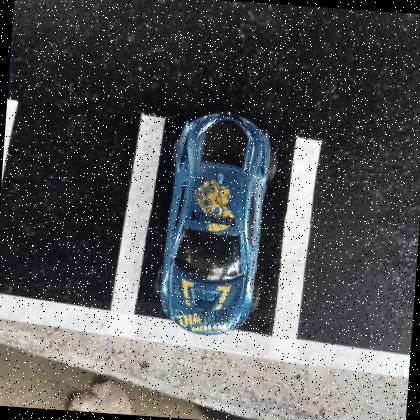Car: (157, 114, 271, 337)
